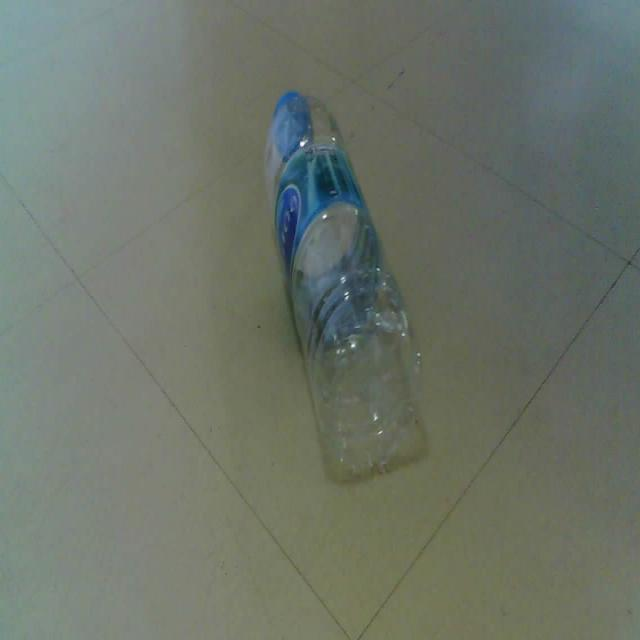empty: (265, 91, 424, 477)
